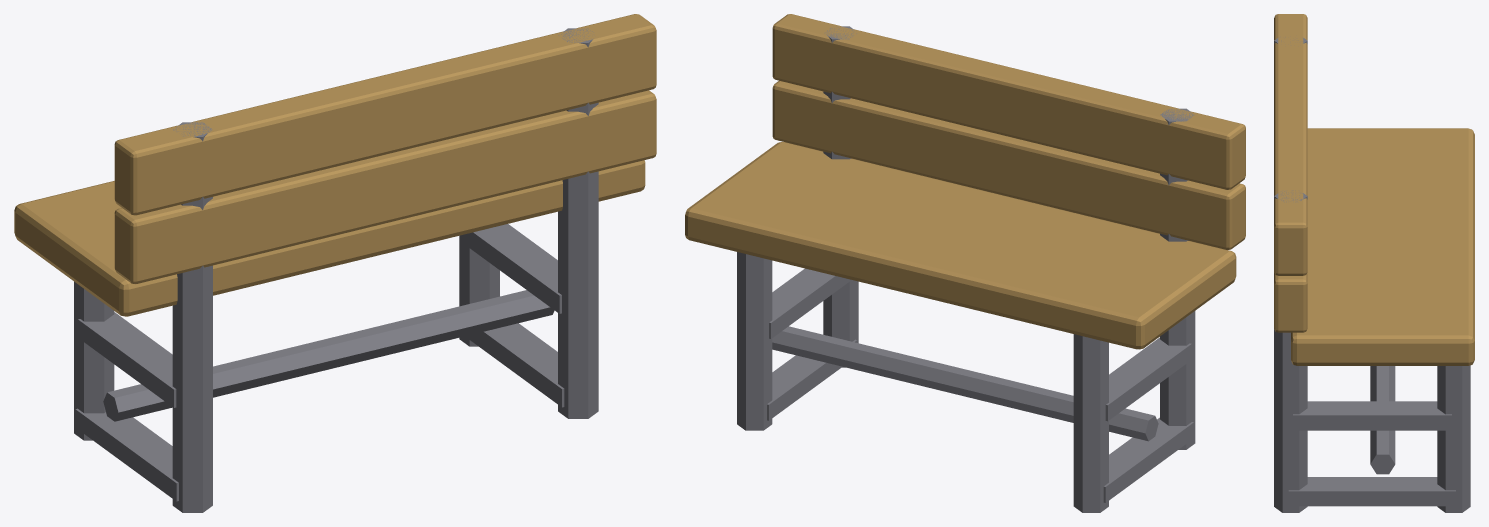
File: bench.glb
3 renders of one model, left to right at view 1: azimuth 30°, elevation 25°; view 2: azimuth 150°, elevation 25°; view 3: azimuth 270°, elevation 25°, orthographic. The views are drawn at different scales.
Parts seen in each view (by area): view 1: Cube.003, Cube.002, Cube, Cylinder.004, Cylinder.001, Cylinder.003, Cube.001, Cube.005, Cube.004, Cube.007, Cube.006, Cylinder (+1 smaller); view 2: Cube.001, Cube.003, Cube.002, Cube, Cylinder.004, Cylinder, Cylinder.002, Cylinder.001, Cube.005, Cube.004, Cube.007, Cube.006 (+1 smaller); view 3: Cube.001, Cube, Cube.003, Cylinder.003, Cube.006, Cube.007, Cylinder.002, Cylinder.004, Cube.002.
Boxes of the visible parts, x1=… form: Cube.003: x1=114, y1=14, x2=656, y2=215; Cube.002: x1=114, y1=90, x2=656, y2=284; Cube: x1=65, y1=160, x2=645, y2=316; Cylinder.004: x1=103, y1=290, x2=554, y2=421; Cylinder.001: x1=172, y1=122, x2=212, y2=512; Cylinder.003: x1=558, y1=28, x2=598, y2=418; Cube.001: x1=14, y1=181, x2=121, y2=277; Cube.005: x1=78, y1=312, x2=176, y2=407; Cube.004: x1=75, y1=408, x2=178, y2=501; Cube.007: x1=463, y1=224, x2=561, y2=313; Cube.006: x1=465, y1=323, x2=564, y2=407; Cylinder: x1=74, y1=281, x2=114, y2=440; Cube.001: x1=685, y1=176, x2=1191, y2=349; Cube.003: x1=772, y1=14, x2=1245, y2=189; Cube.002: x1=772, y1=80, x2=1245, y2=249; Cube: x1=732, y1=142, x2=1236, y2=314; Cylinder.004: x1=772, y1=326, x2=1158, y2=441; Cylinder: x1=1073, y1=334, x2=1108, y2=512; Cylinder.002: x1=737, y1=252, x2=772, y2=430; Cylinder.001: x1=1160, y1=108, x2=1195, y2=449; Cube.005: x1=1105, y1=337, x2=1191, y2=421; Cube.004: x1=1103, y1=417, x2=1193, y2=502; Cube.007: x1=769, y1=268, x2=851, y2=338; Cube.006: x1=767, y1=339, x2=857, y2=420; Cube.001: x1=1380, y1=128, x2=1474, y2=365; Cube: x1=1291, y1=128, x2=1384, y2=365; Cube.003: x1=1274, y1=14, x2=1307, y2=275; Cylinder.003: x1=1274, y1=190, x2=1307, y2=512; Cube.006: x1=1288, y1=477, x2=1455, y2=506; Cube.007: x1=1293, y1=401, x2=1451, y2=430; Cylinder.002: x1=1437, y1=365, x2=1470, y2=512; Cylinder.004: x1=1370, y1=366, x2=1395, y2=474; Cube.002: x1=1274, y1=272, x2=1307, y2=332.
Bounding box in the file's own units: 1.2 × 0.82 × 0.48.
